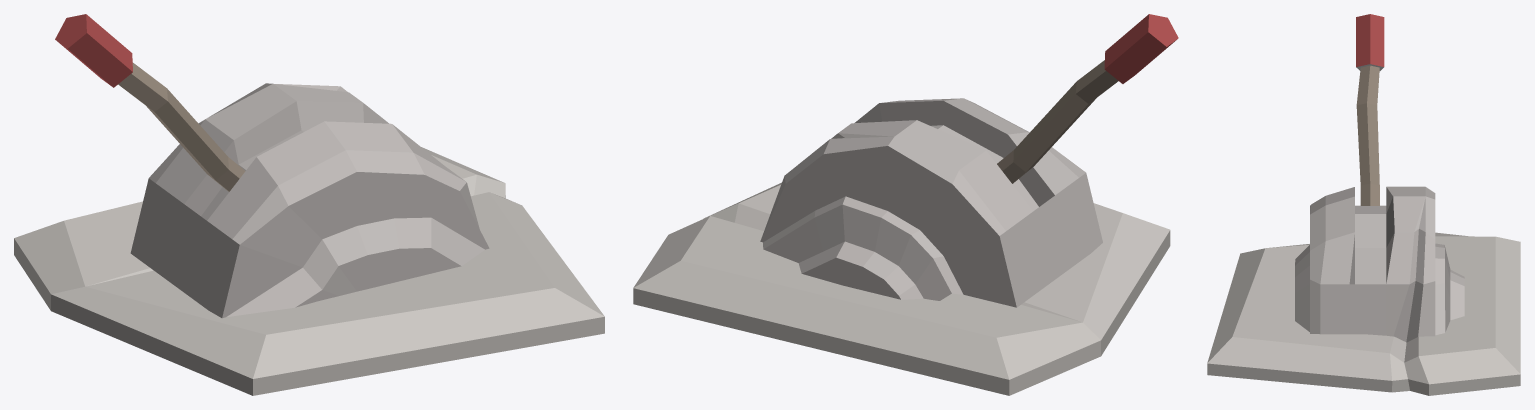
The model's file is ER_Asset_StoneLever.fbx.
The picture shows the model from 3 angles, left to right: view 1: azimuth 30°, elevation 25°; view 2: azimuth 150°, elevation 25°; view 3: azimuth 270°, elevation 25°; orthographic projection. The views are drawn at different scales.
Visible parts, largest first — view 1: pCylinder65, pCube730, pCylinder66; view 2: pCylinder65, pCube730, pCylinder66; view 3: pCube730, pCylinder65, pCylinder66.
Part boxes in pixels (x1,y1,x2,y2): pCylinder65: [130, 83, 489, 318]; pCube730: [14, 147, 604, 395]; pCylinder66: [55, 14, 245, 191]; pCylinder65: [760, 98, 1102, 307]; pCube730: [633, 182, 1170, 395]; pCylinder66: [997, 14, 1178, 183]; pCube730: [1207, 232, 1520, 395]; pCylinder65: [1295, 186, 1464, 342]; pCylinder66: [1356, 14, 1384, 205].
Bounding box in the file's own units: 1.23 × 0.7986 × 1.
